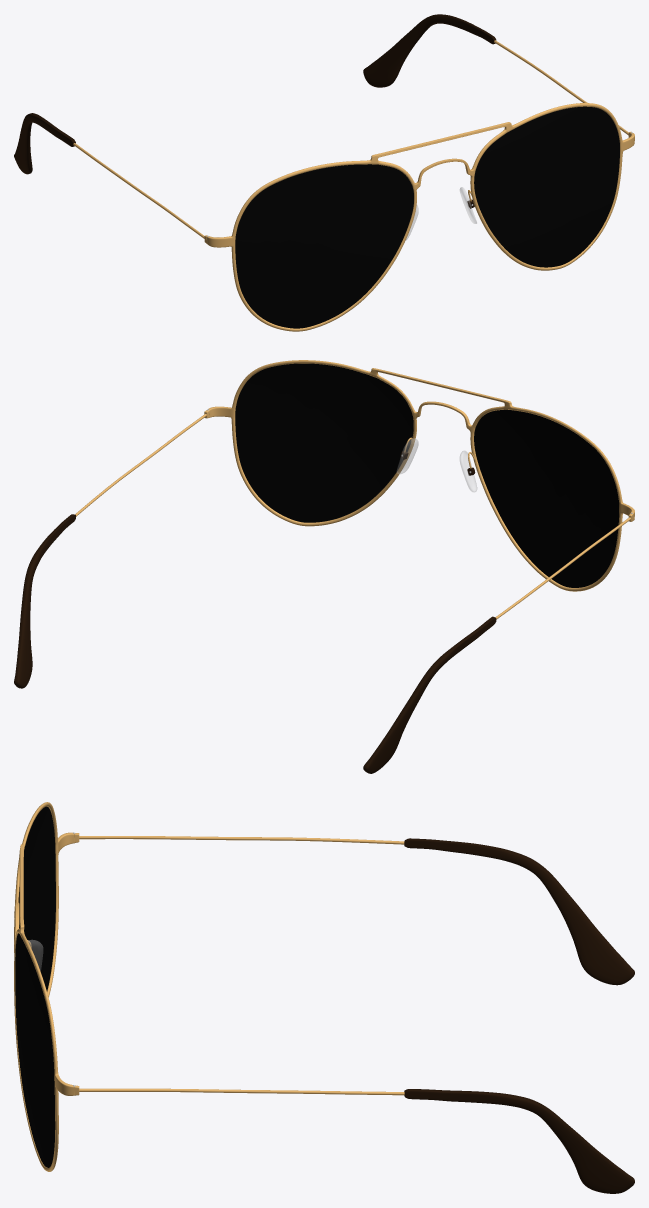
3 renders of one model, top to bottom at view 1: azimuth 30°, elevation 25°; view 2: azimuth 150°, elevation 25°; view 3: azimuth 270°, elevation 25°, orthographic. The views are drawn at different scales.
Bounding box in the file's own units: 0.9635 × 0.3605 × 0.9933.
